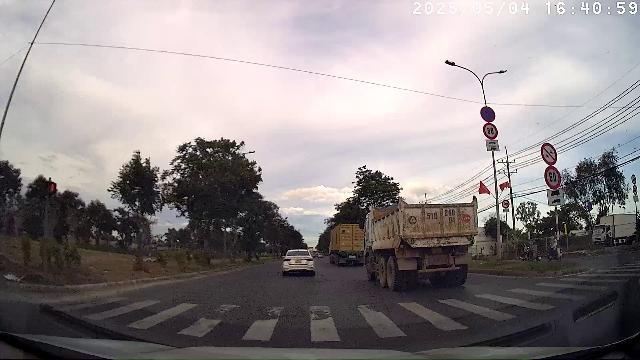127-toc-do-toi-da-50: (631, 174, 637, 184)
127-toc-do-toi-da-60: (545, 166, 561, 190)
127-toc-do-toi-da-80: (482, 123, 498, 139)
130-cam-dung-va-do-xe: (480, 106, 496, 121)
